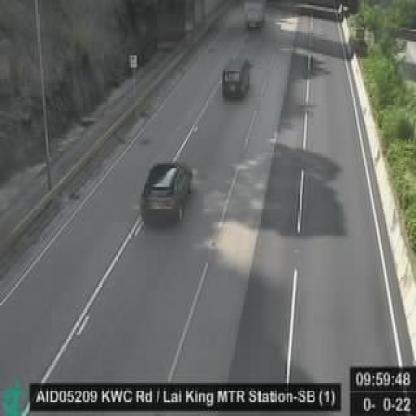Car: (143, 161, 193, 226), (221, 54, 253, 101)
Truck: (244, 0, 267, 34)
